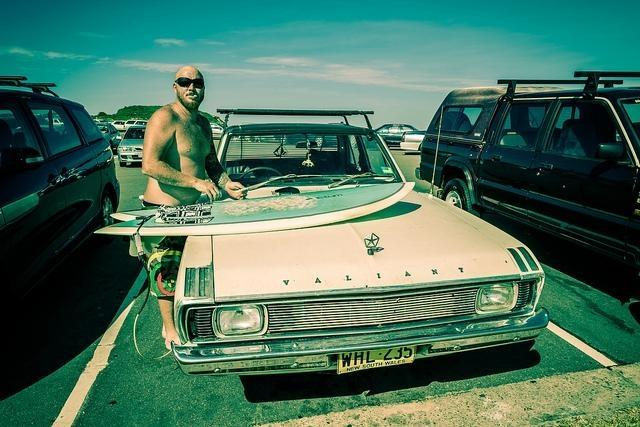car: (169, 104, 550, 376), (2, 77, 118, 354), (116, 126, 146, 164), (375, 123, 419, 147), (96, 123, 121, 148), (399, 131, 424, 150), (123, 121, 148, 130), (112, 120, 126, 130)
truck: (414, 70, 640, 274)
